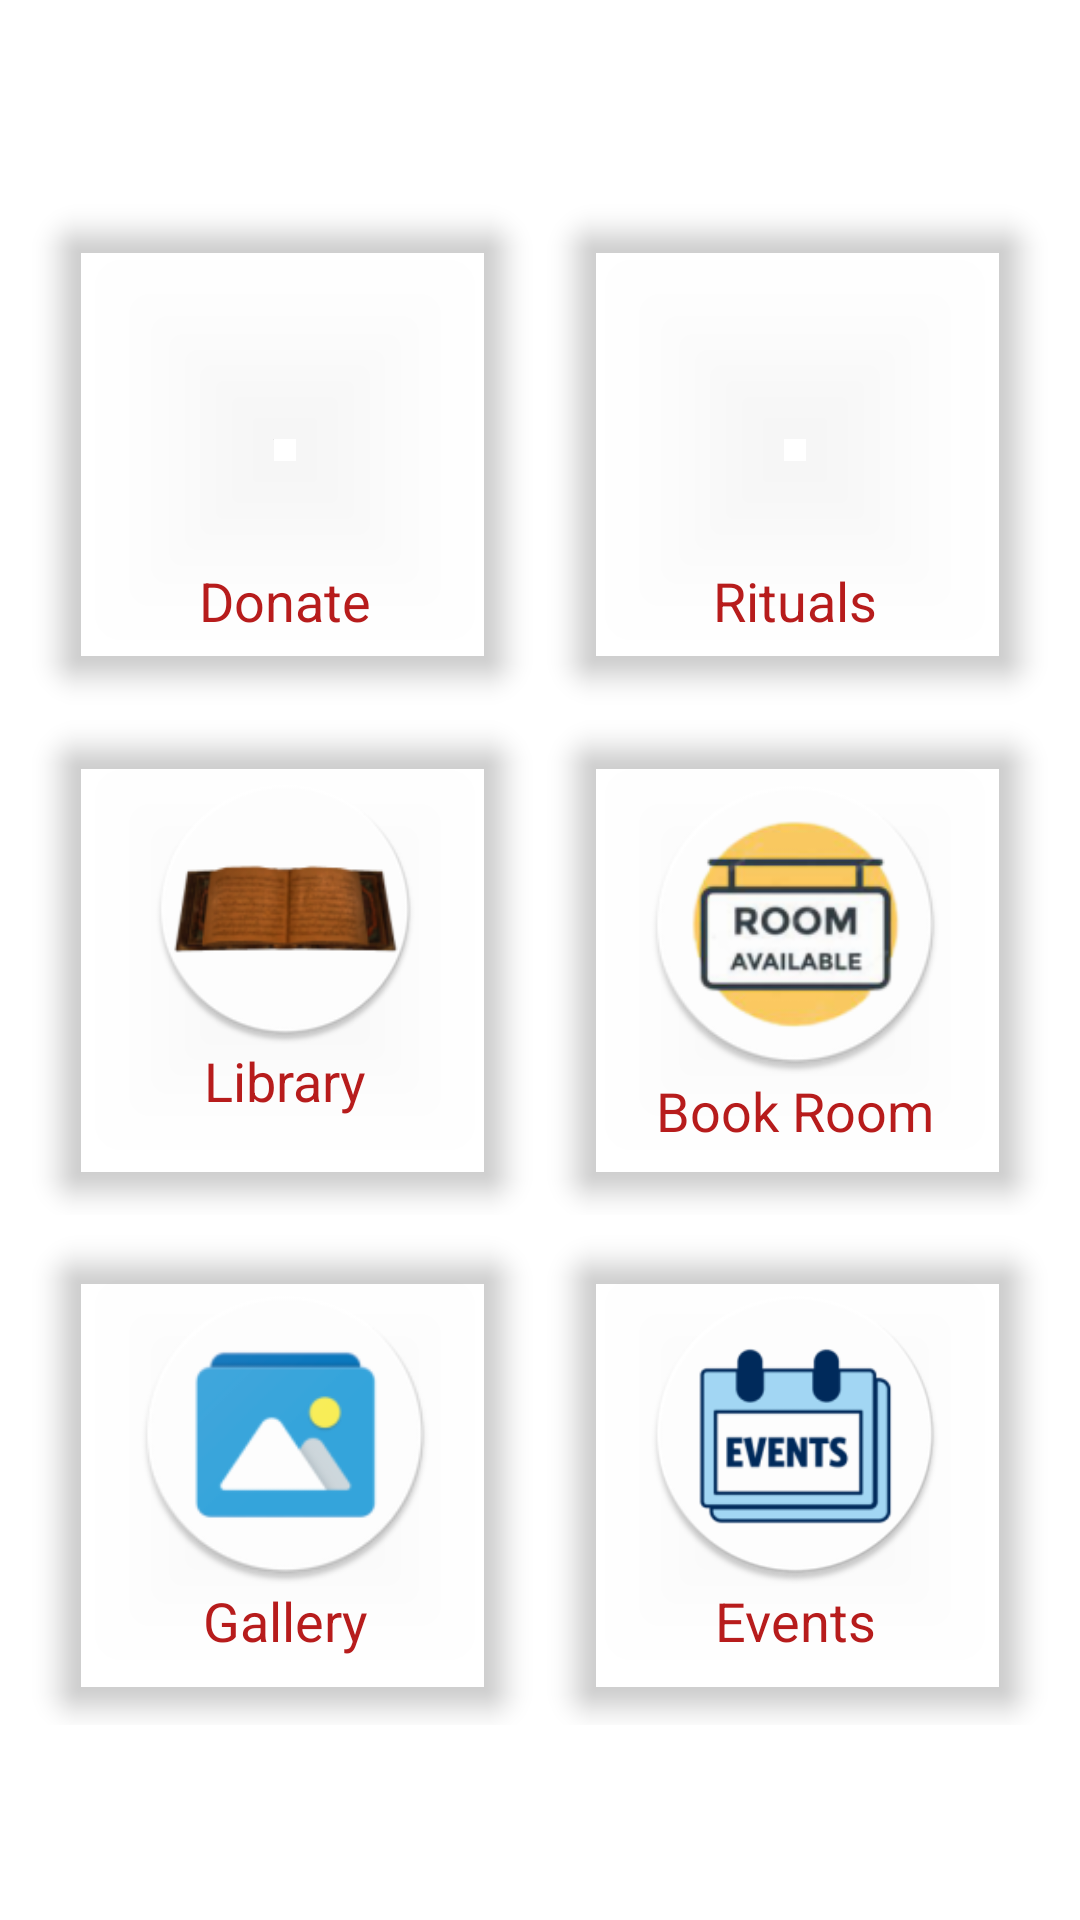

Icon click points for this 1080w x 1920h phone screenshot, format point (x, y):
books round: point (287, 947)
